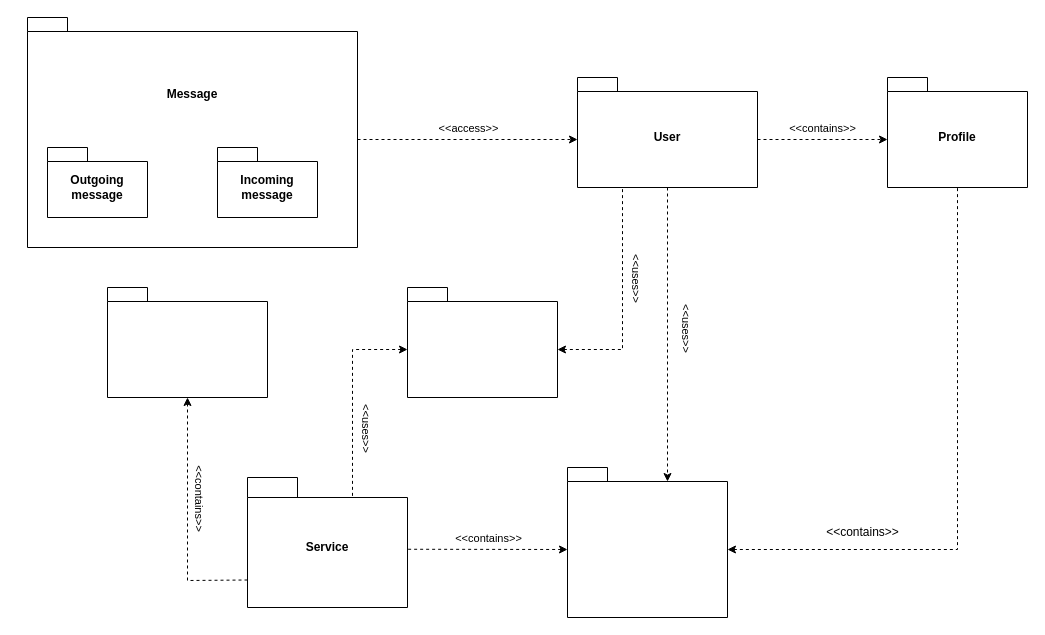
Some shapes in this 1045 by 635 pixel diagram are drawn without their labels. The shapes that lost their labels are listed below. From the top down, each one's box as (x1, y1, x2, y2) in pixels, then its label:
(106, 286, 268, 398): Category
(406, 286, 558, 398): Payment
(566, 466, 728, 618): Review
